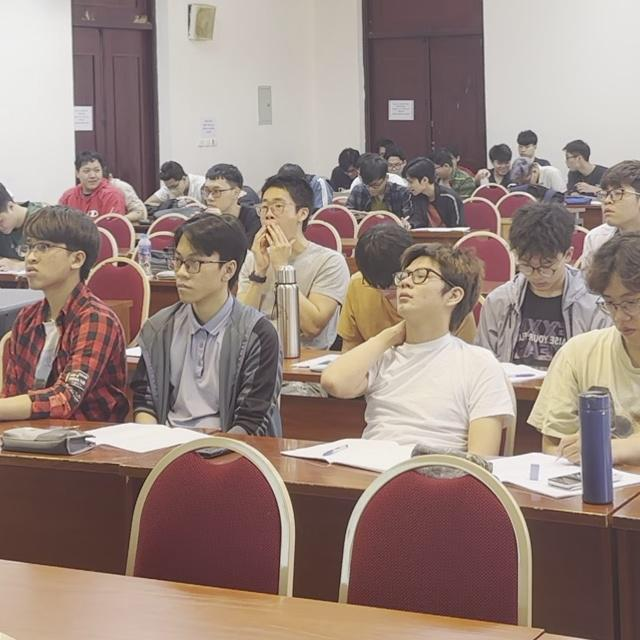Looking away: (493, 206, 592, 317), (587, 247, 640, 381), (347, 221, 419, 297), (3, 177, 35, 255), (322, 135, 369, 183), (147, 159, 190, 200), (352, 158, 396, 198), (557, 143, 600, 183), (401, 159, 436, 204), (69, 148, 101, 197), (509, 150, 539, 190), (427, 150, 464, 182), (491, 145, 514, 172), (388, 156, 411, 179)
Looking forward: (24, 206, 98, 317), (156, 204, 229, 313), (402, 239, 472, 351), (596, 219, 640, 358)
